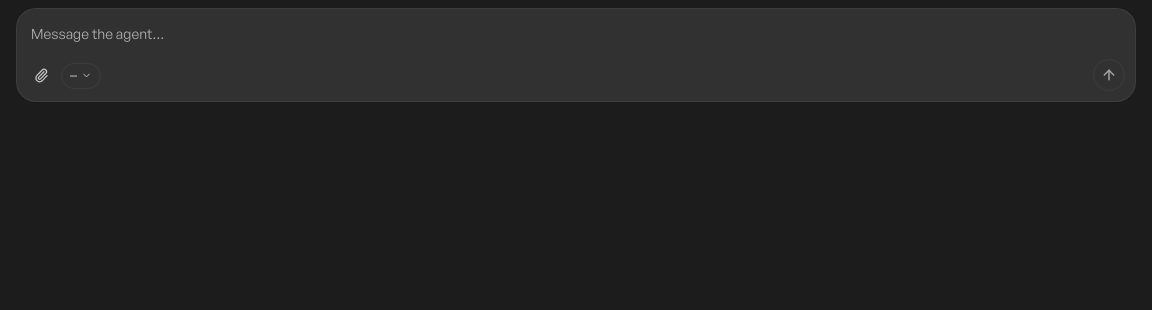
Composer › opens the slash-command palette when "/" is typed at position 0, listing all commands
In the text box with placeholder "Message the agent…": (576, 31) 17,9 -> 1135,53, type "/"
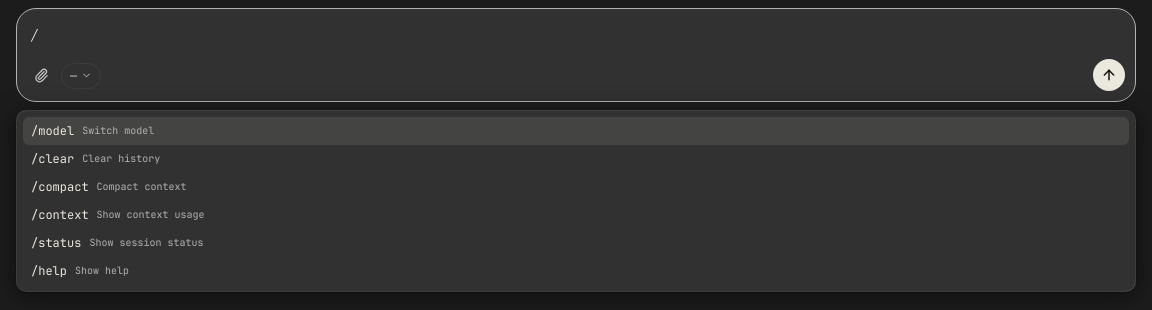
Expected: the 4th text "/clear" is shown, 31,151 -> 74,167
Expected: the 2nd text "/model" is shown, 31,123 -> 74,139
